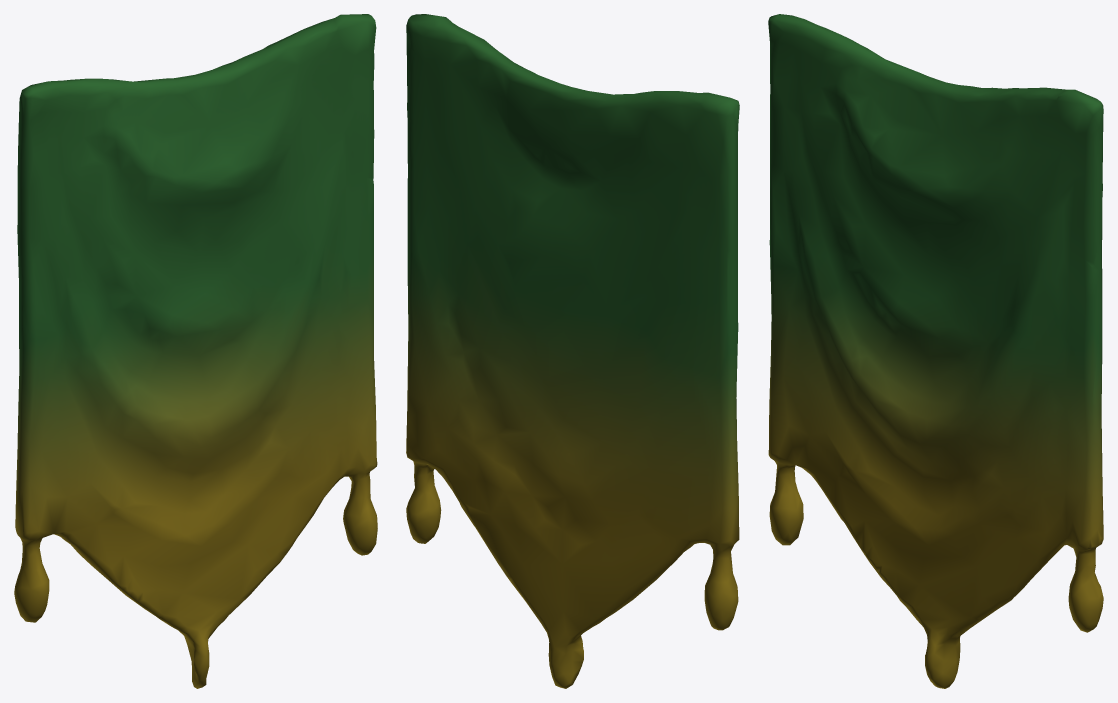
File: village-banner.glb
The picture shows the model from 3 angles, left to right: view 1: azimuth 30°, elevation 25°; view 2: azimuth 150°, elevation 25°; view 3: azimuth 330°, elevation 25°; orthographic projection.
Visible parts, largest first — view 1: village-banner; view 2: village-banner; view 3: village-banner.
Boxes of the visible parts, box(x1,y1,x2,y2) form: village-banner: box(14, 14, 377, 688); village-banner: box(406, 14, 739, 688); village-banner: box(768, 14, 1103, 688).
Bounding box in the file's own units: 0.00812 × 0.0144 × 0.00131.
